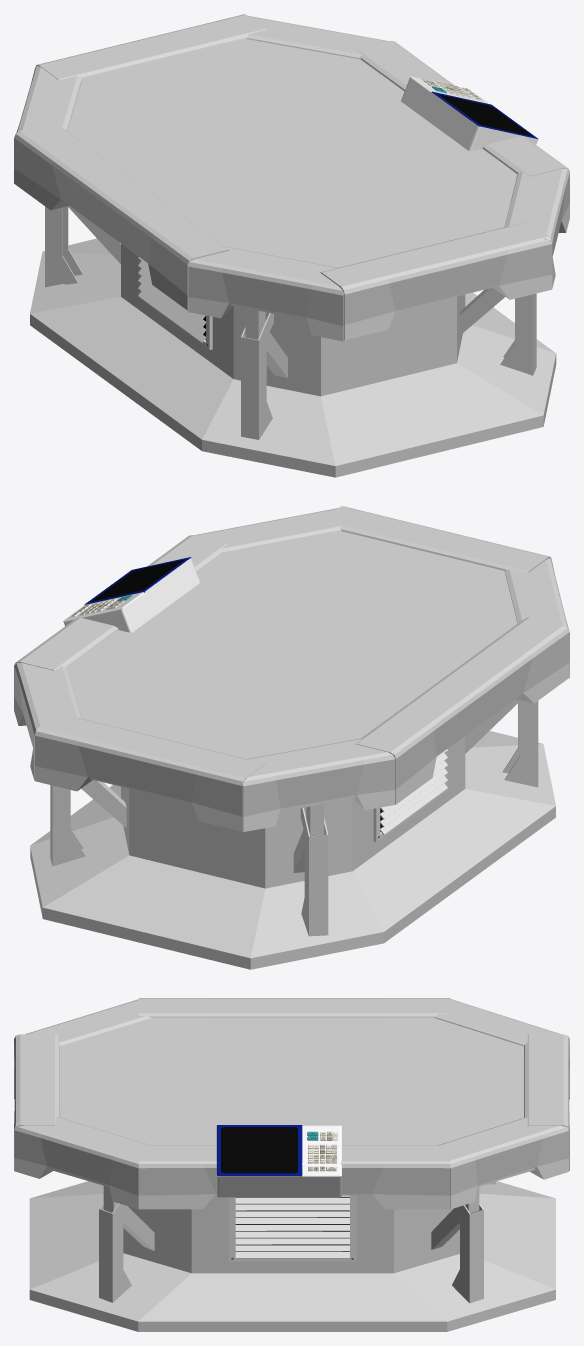
Rendered from mesa_Spaceship.fbx.
3 views of the same model, one above another, from view 1: azimuth 30°, elevation 25°; view 2: azimuth 150°, elevation 25°; view 3: azimuth 270°, elevation 25° (orthographic). The views are drawn at different scales.
Visible parts, largest first — view 1: Cube.009, Base.001, Side.014, Side.015, Side.008, Side.012, Cube.012, Side.013, Side.011, Pata.007, Side.010, Side.009 (+6 smaller); view 2: Cube.009, Base.001, Side.014, Side.012, Side.009, Side.015, Cube.012, Side.013, Side.010, Side.011, Side.008, Pata.005 (+6 smaller); view 3: Base.001, Cube.009, Side.013, Cube.012, Rejilla1, Side.011, Side.010, Side.014, Side.015, Side.012, Pata.004, Pata.006 (+5 smaller).
Part boxes in pixels (left/top/right/bottom): Cube.009: left=67, top=39, right=517, bottom=320; Base.001: left=30, top=238, right=556, bottom=477; Side.014: left=14, top=123, right=229, bottom=310; Side.015: left=320, top=222, right=552, bottom=340; Side.008: left=188, top=246, right=344, bottom=341; Side.012: left=36, top=14, right=266, bottom=79; Cube.012: left=401, top=76, right=538, bottom=151; Side.013: left=356, top=40, right=569, bottom=176; Side.011: left=504, top=168, right=569, bottom=287; Pata.007: left=241, top=312, right=273, bottom=439; Side.010: left=246, top=16, right=388, bottom=59; Side.009: left=16, top=64, right=82, bottom=132; Cube.009: left=67, top=531, right=517, bottom=812; Base.001: left=30, top=731, right=555, bottom=969; Side.014: left=356, top=617, right=569, bottom=804; Side.012: left=35, top=713, right=265, bottom=831; Side.009: left=240, top=738, right=395, bottom=831; Side.015: left=321, top=506, right=551, bottom=573; Cube.012: left=63, top=557, right=199, bottom=632; Side.013: left=14, top=535, right=227, bottom=710; Side.010: left=14, top=663, right=81, bottom=780; Side.011: left=194, top=507, right=347, bottom=553; Side.008: left=504, top=558, right=569, bottom=678; Pata.005: left=300, top=807, right=328, bottom=936; Base.001: left=29, top=1181, right=555, bottom=1331; Cube.009: left=48, top=1018, right=535, bottom=1195; Side.013: left=139, top=1145, right=450, bottom=1209; Cube.012: left=216, top=1125, right=341, bottom=1197; Rejilla1: left=229, top=1195, right=356, bottom=1261; Side.011: left=14, top=1117, right=151, bottom=1209; Side.010: left=437, top=1117, right=568, bottom=1209; Side.014: left=139, top=998, right=450, bottom=1018; Side.015: left=14, top=1034, right=59, bottom=1170; Side.012: left=524, top=1034, right=569, bottom=1170; Pata.004: left=99, top=1203, right=131, bottom=1302; Pata.006: left=452, top=1203, right=483, bottom=1303.
Size of the model in its own units: 537 by 279 by 730.
